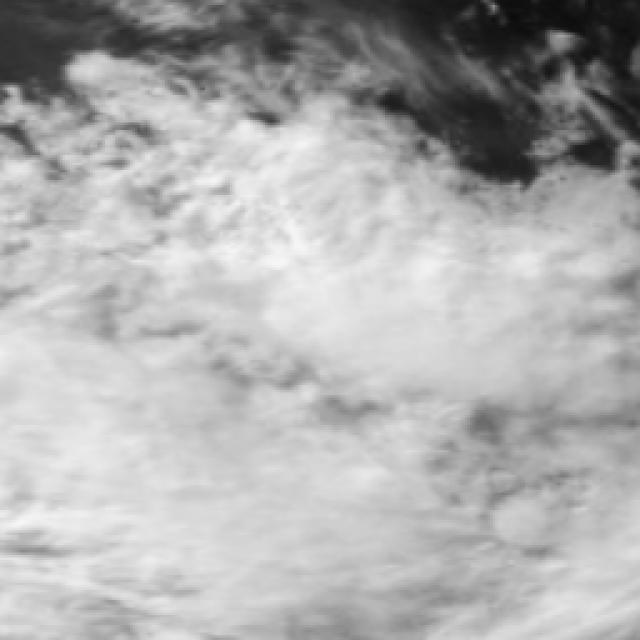CB: (160, 324, 361, 528), (391, 264, 614, 414), (255, 442, 420, 640), (0, 508, 238, 638), (0, 334, 161, 525), (223, 150, 405, 316)
